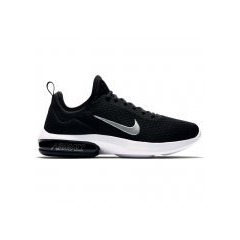nike: (91, 113, 141, 137)
